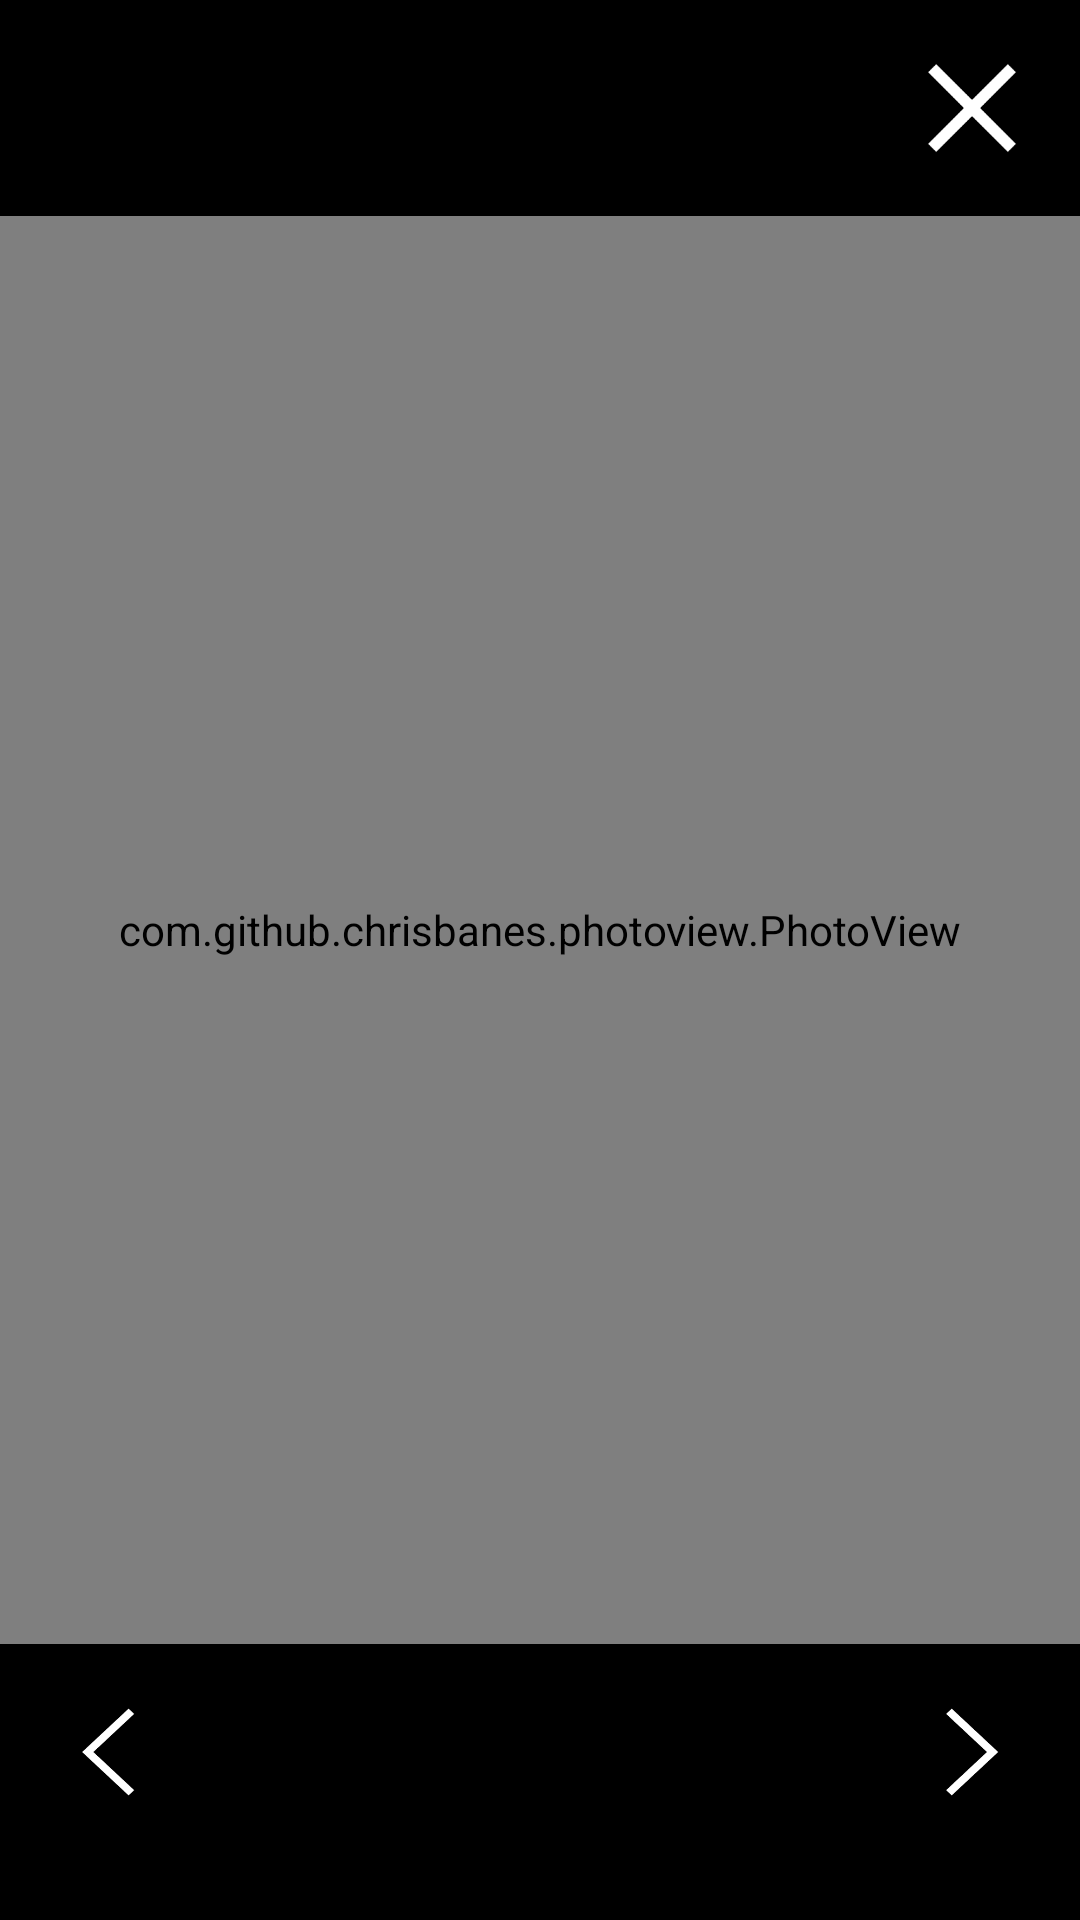

Named icons in this screenshot (1080x1920) and their bounding boxes, (x1, y1, x2, y2):
Fechar caixa de diálogo de imagens: (928, 64, 1016, 152)
Imagem anterior: (82, 1708, 134, 1796)
Próxima imagem: (946, 1708, 998, 1796)
